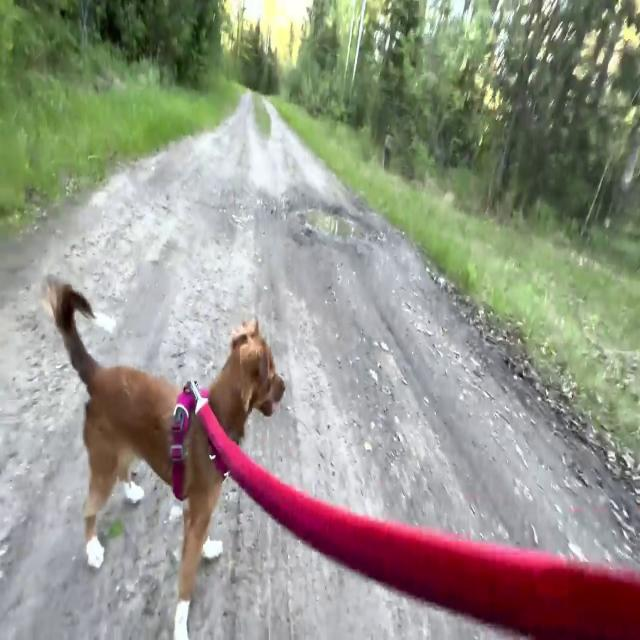Dog: (44, 273, 286, 640)
